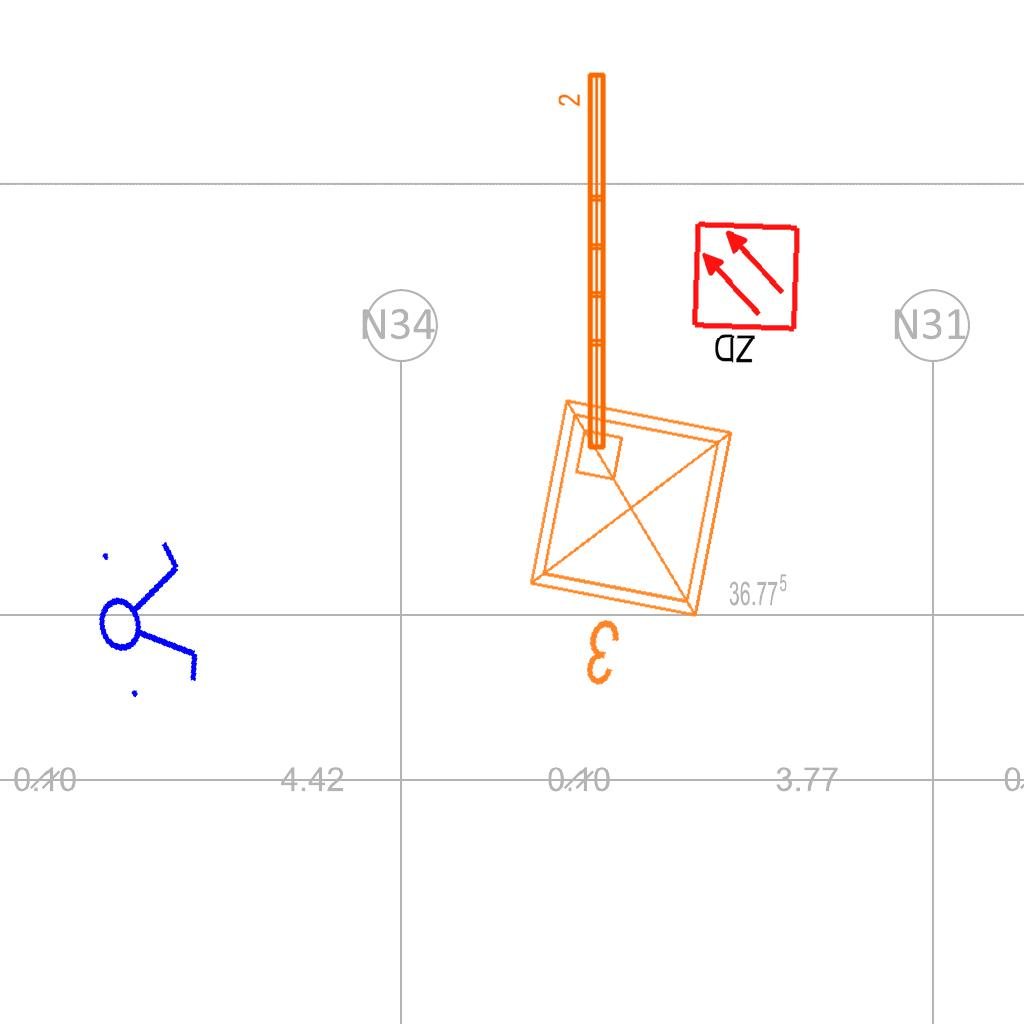Ambulanz_Pendelleuchte_LED: (556, 68, 612, 455)
Einbaudownlights_LED_Konferenzraeume: (496, 381, 758, 717)
Serienschalter: (80, 525, 210, 711)
ZD_Melder_in_Zwischendecke_mit_Revisionsoeffnung_mind_40_x_40_cm: (687, 219, 807, 372)
